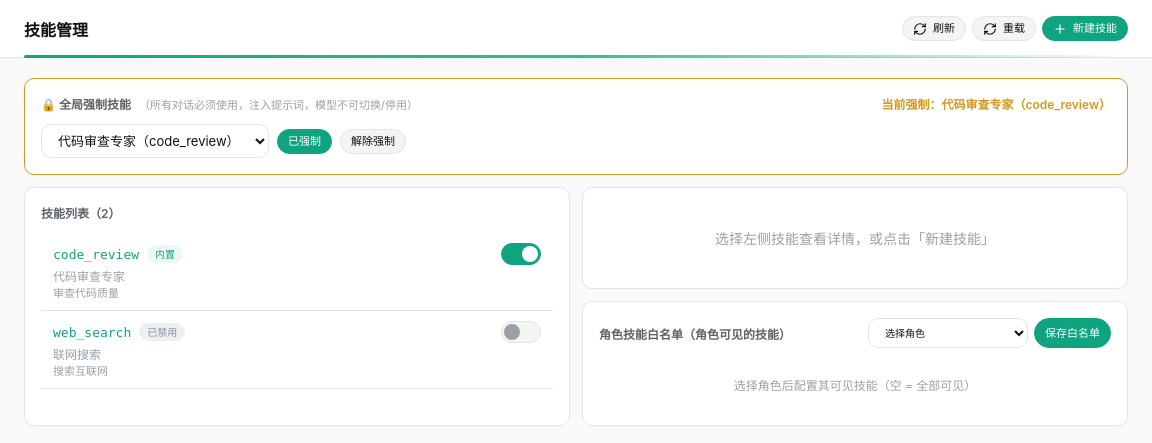
Skills.vue › clearForced 解除强制技能
Step 1. Click the button "解除强制" → (373, 141), box 340,129 -> 406,154
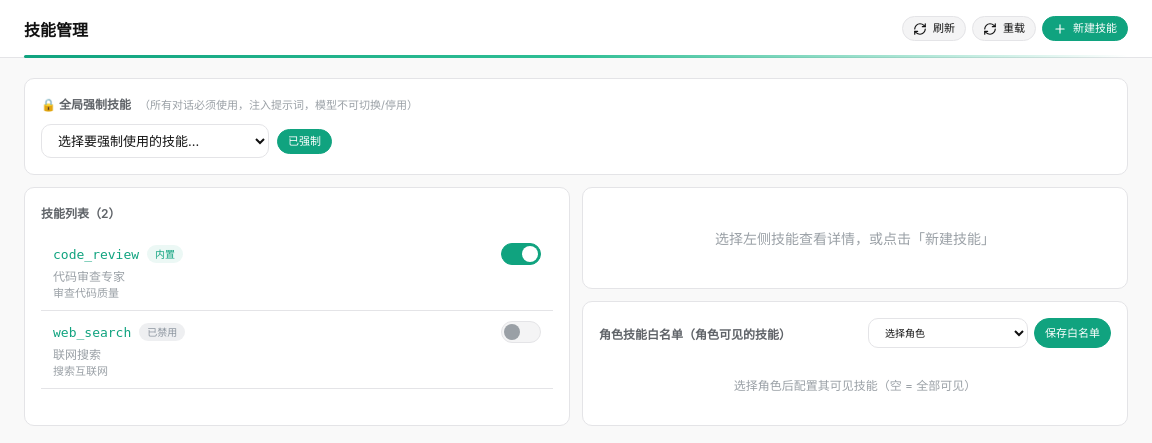
Result: the text "当前强制" is gone
